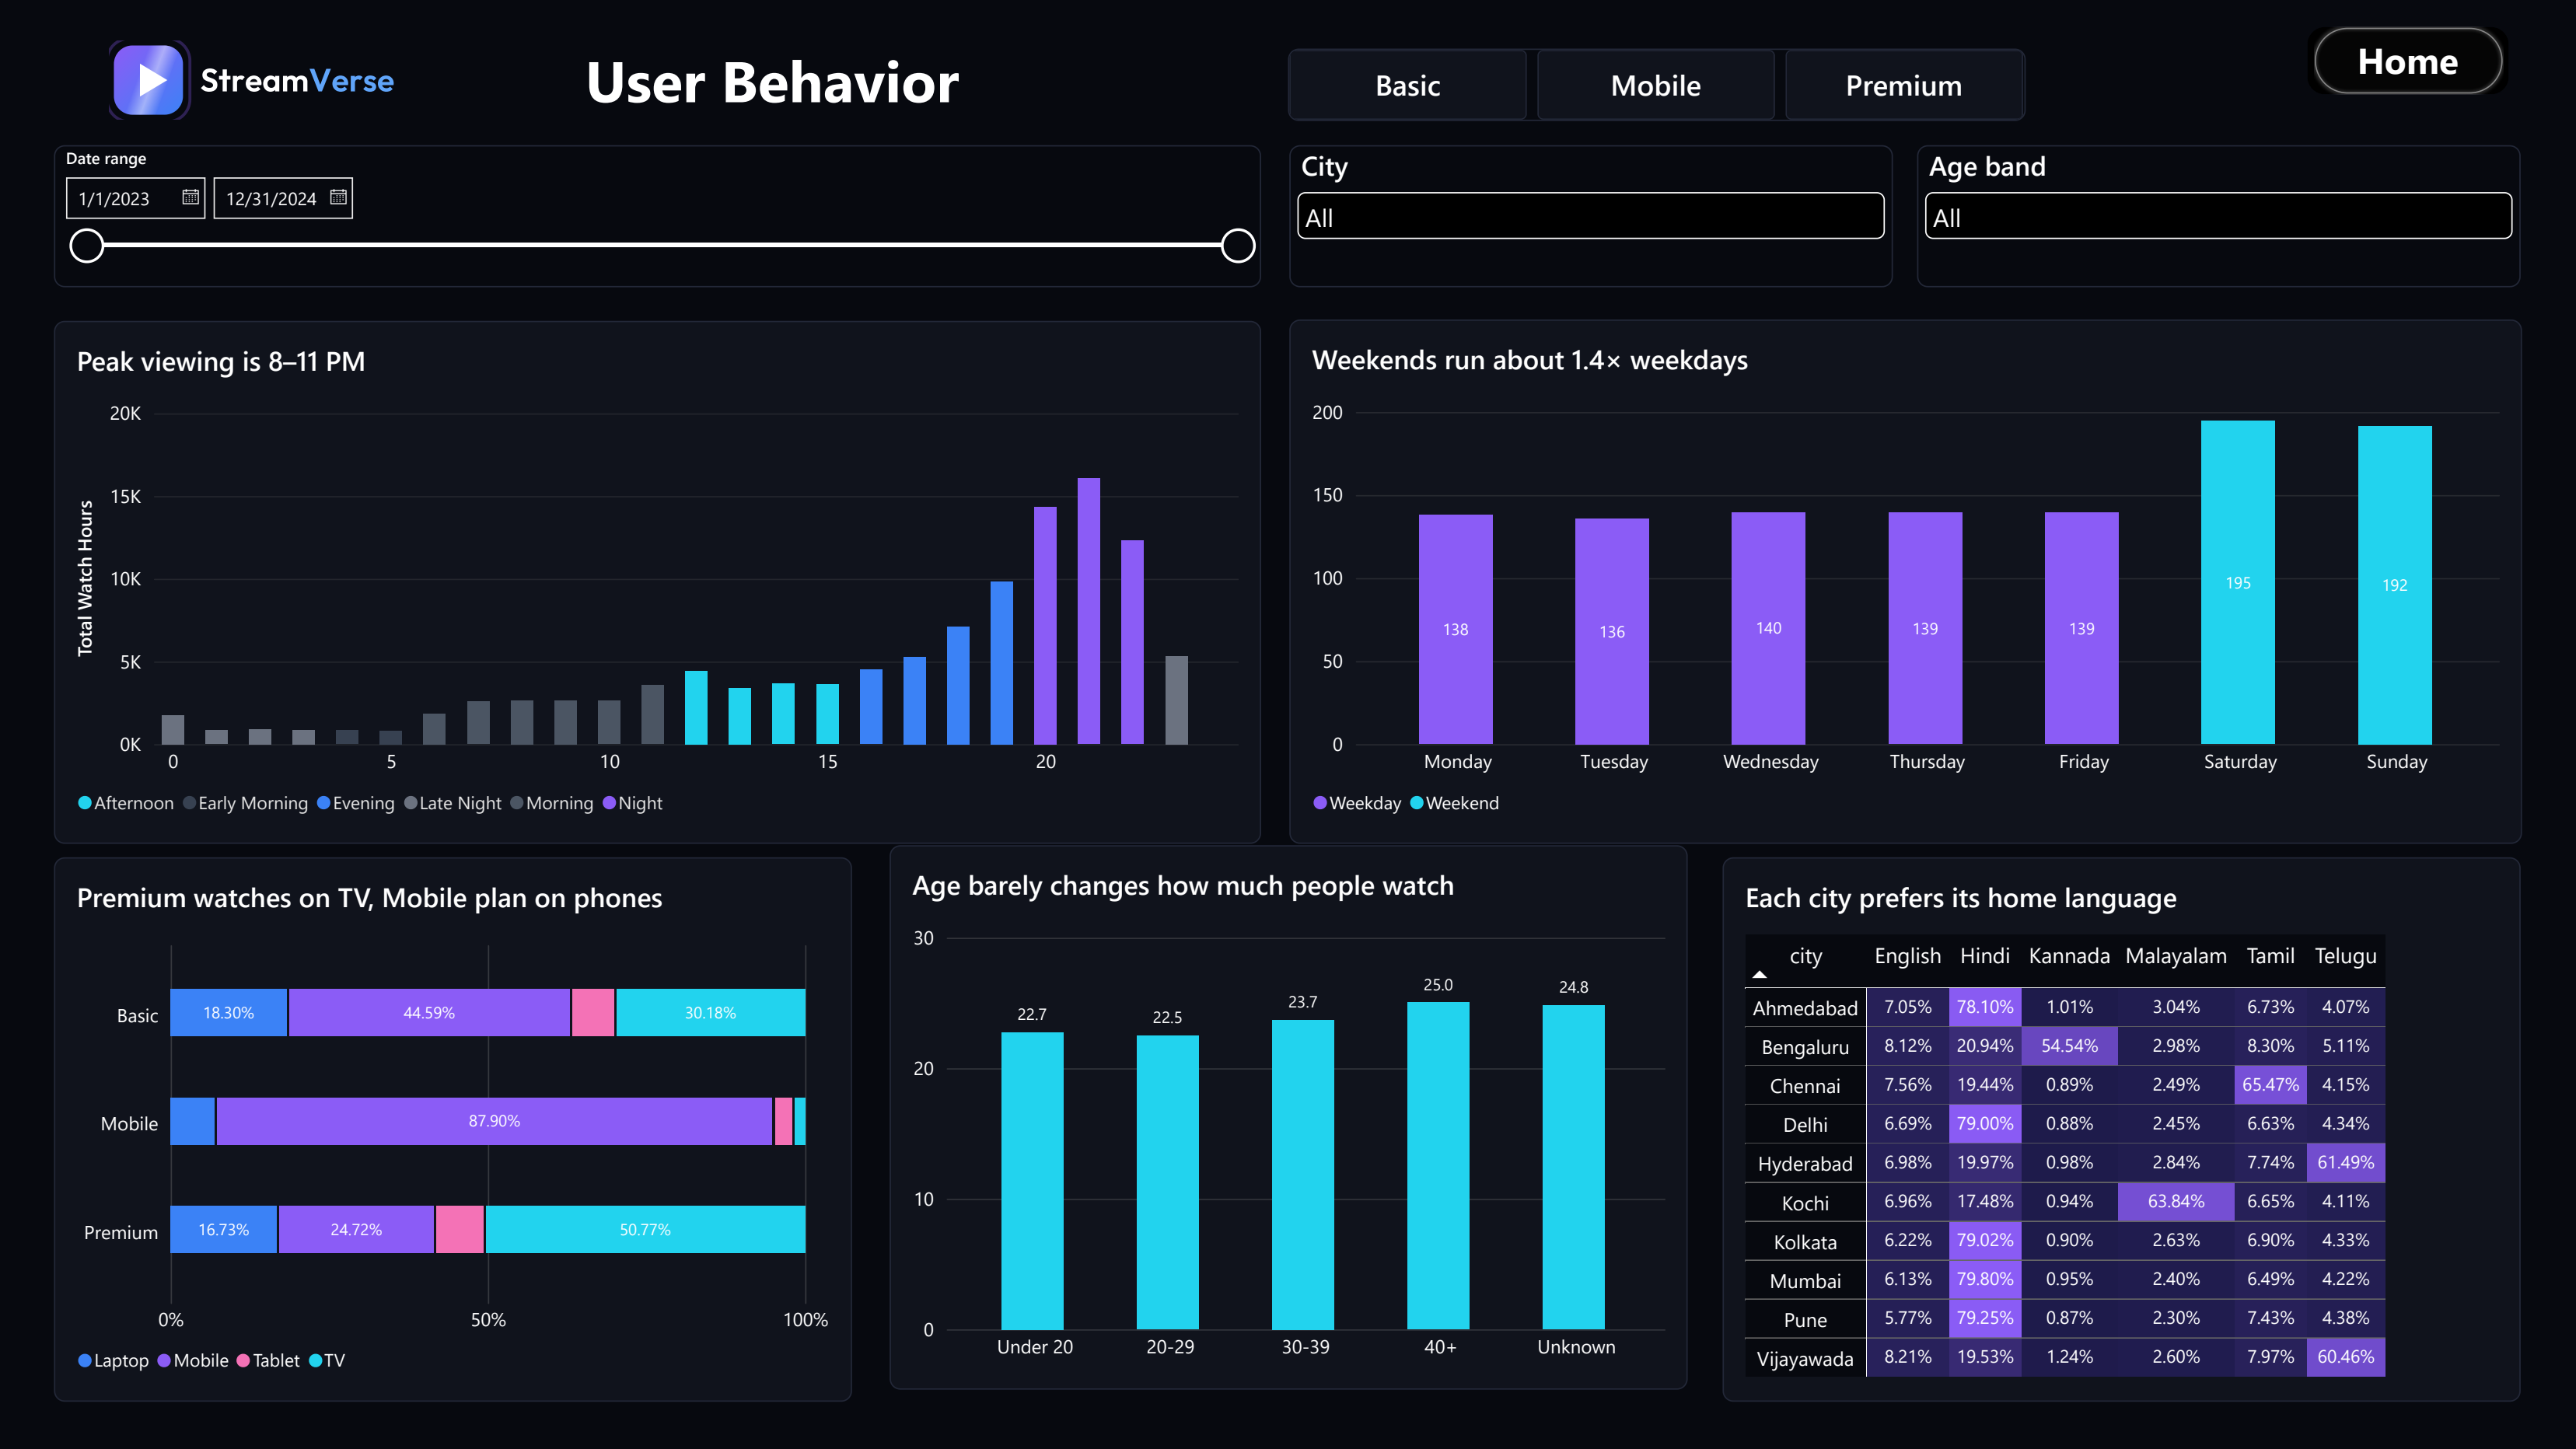

The dashboard page shown, as its layout file describes it:
{"tool":"powerbi","page":{"name":"User Behavior","canvas":[1920,1080],"ordinal":3},"visuals":[{"type":"image","box":[40,30,300,59],"z":0},{"type":"textbox","box":[435.7,30,446.7,60],"z":1000},{"type":"advancedSlicerVisual","fields":{"Values":["Plan.plan_name"]},"box":[960,36,550,54],"z":2000},{"type":"actionButton","box":[1720,20,150,50],"z":3000},{"type":"slicer","fields":{"Values":["Date.full_date"]},"box":[40.4,107.7,899.4,106.3],"z":4000},{"type":"slicer","fields":{"Values":["Users.age_band"]},"box":[1429.2,107.7,450,106.3],"z":5000},{"type":"slicer","fields":{"Values":["Users.city"]},"box":[960.7,107.7,450,106.3],"z":6000},{"type":"columnChart","title":"Peak viewing is 8–11 PM","fields":{"Category":["Watch.watch_hour"],"Series":["Watch.time_of_day"],"Y":["Date.Total Watch Hours"]},"box":[40.4,239.4,900,390],"z":7000},{"type":"columnChart","title":"Weekends run about 1.4× weekdays","fields":{"Category":["Date.weekday_name"],"Series":["Date.Day Type"],"Y":["Watch.Avg Hours per Day"]},"box":[960.7,237.9,918.8,390.6],"z":8000},{"type":"barChart","title":"Premium watches on TV, Mobile plan on phones","fields":{"Category":["Plan.plan_name"],"Series":["Device.device_type"],"Y":["Device.Device Share %"]},"box":[40.4,639,595,405.5],"z":9000},{"type":"clusteredColumnChart","title":"Age barely changes how much people watch","fields":{"Category":["Users.age_band"],"Y":["Watch.Hours per Viewer"]},"box":[662.9,630,595,405.5],"z":10000},{"type":"pivotTable","title":"Each city prefers its home language","fields":{"Columns":["Content.language"],"Rows":["Users.city"],"Values":["Users.Language Share of City"]},"box":[1284,639,595,405.5],"z":11000}]}

Visuals, with their boxes in screenshot pixels (x1, y1, x2, y2), scaled from the page's 1920x1080 canvas onto the 2576x1449 screenshot:
image: 54 40 456 120
textbox: 585 40 1184 120
advancedSlicerVisual - Plan.plan_name: 1288 48 2026 120
actionButton: 2308 27 2509 94
slicer - Date.full_date: 54 145 1261 287
slicer - Users.age_band: 1917 145 2522 287
slicer - Users.city: 1289 145 1893 287
"Peak viewing is 8–11 PM" columnChart: 54 321 1262 844
"Weekends run about 1.4× weekdays" columnChart: 1289 319 2522 843
"Premium watches on TV, Mobile plan on phones" barChart: 54 857 852 1402
"Age barely changes how much people watch" clusteredColumnChart: 890 845 1688 1389
"Each city prefers its home language" pivotTable: 1723 857 2521 1402
